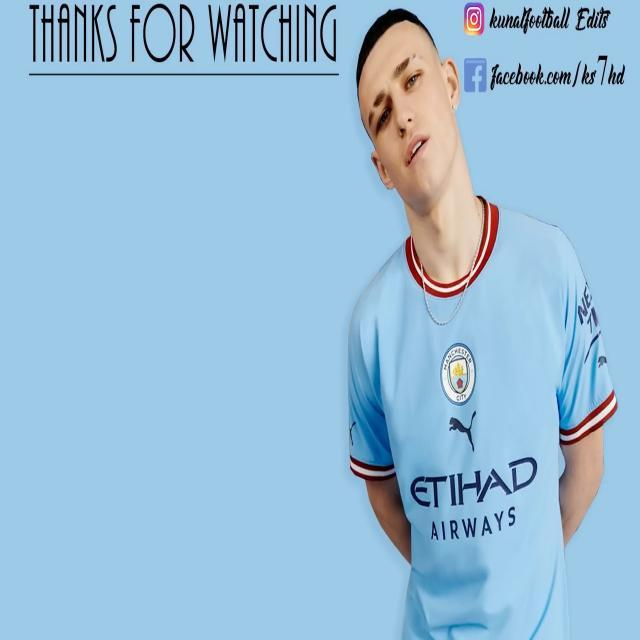Etihad Airways: (412, 455, 540, 546)
